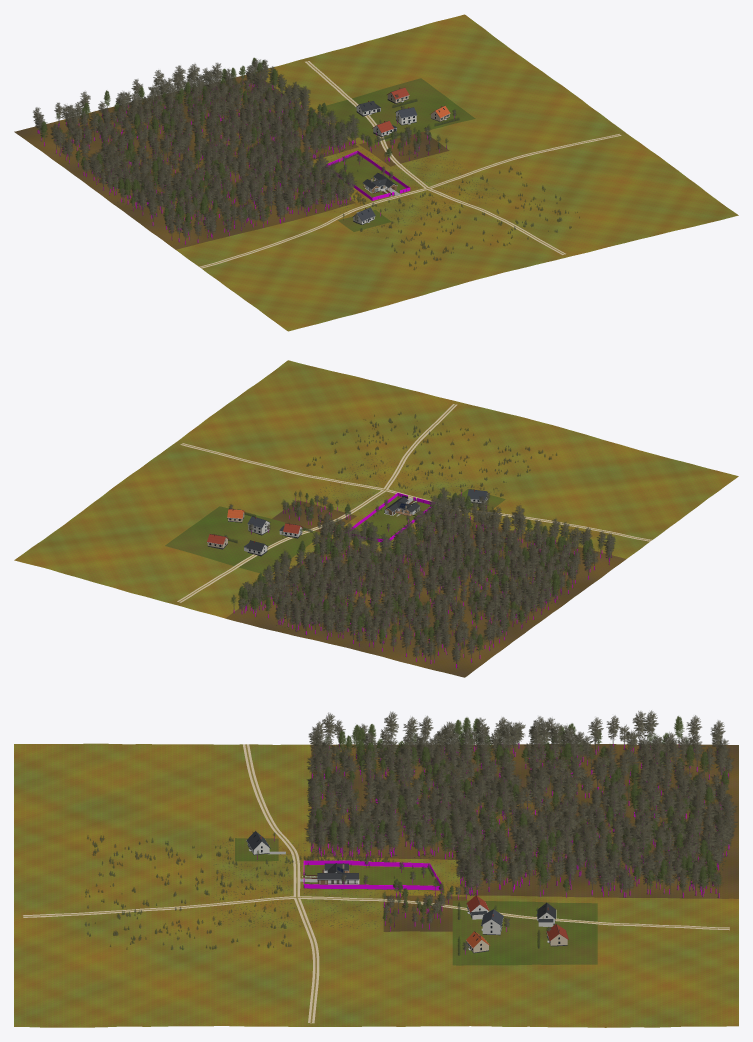
File: hanka.glb
3 views of the same model, one above another, from view 1: azimuth 30°, elevation 25°; view 2: azimuth 150°, elevation 25°; view 3: azimuth 270°, elevation 25° (orthographic). The views are drawn at different scales.
Parts seen in each view (by area): view 1: Teren, Las_pine_a, Las_pine_b, Las_fir_a, Las_fir_b, Las_fir_c, Kolizja_las, Las_fir_sap, Droga_front, Las_pine_sap, Droga_east, Droga_north (+1 smaller); view 2: Teren, Las_pine_a, Las_pine_b, Las_fir_a, Las_fir_b, Las_fir_c, Kolizja_las, Las_fir_sap, Droga_north, Las_pine_sap, Droga_east; view 3: Teren, Las_pine_a, Las_pine_b, Las_fir_a, Las_fir_b, Las_fir_c, Kolizja_las, Las_fir_sap, Kolizja_ogrodzenie, Las_pine_sap, Droga_north, Droga_front (+2 smaller).
Boxes of the visible parts, x1,y1,x2,y2 form: Teren: (14,14,738,331); Las_pine_a: (33,59,359,244); Las_pine_b: (34,65,456,238); Las_fir_a: (40,57,347,234); Las_fir_b: (60,65,440,224); Las_fir_c: (53,59,448,239); Kolizja_las: (37,84,454,244); Las_fir_sap: (328,99,579,270); Droga_front: (199,188,426,268); Las_pine_sap: (351,167,570,268); Droga_east: (427,134,621,188); Droga_north: (305,61,428,188); Teren: (14,360,738,677); Las_pine_a: (242,487,615,667); Las_pine_b: (224,492,598,663); Las_fir_a: (238,492,593,658); Las_fir_b: (249,493,573,646); Las_fir_c: (231,489,602,663); Kolizja_las: (233,492,611,667); Las_fir_sap: (213,413,557,543); Droga_north: (177,490,386,602); Las_pine_sap: (306,412,552,532); Droga_east: (180,443,384,490); Teren: (14,743,738,1027); Las_pine_a: (307,710,737,897); Las_pine_b: (252,721,733,954); Las_fir_a: (315,716,729,896); Las_fir_b: (315,723,720,927); Las_fir_c: (256,731,723,931); Kolizja_las: (257,743,729,954); Las_fir_sap: (85,835,539,955); Kolizja_ogrodzenie: (303,860,442,890); Las_pine_sap: (85,838,389,949); Droga_north: (297,896,729,930); Droga_front: (243,744,300,895).
Bounding box in the file's own units: 380 × 27.59 × 400.
Materials: 57 (35 with a texture image).
